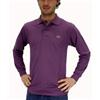abbigliamento_uomo: (13, 16, 89, 93)
